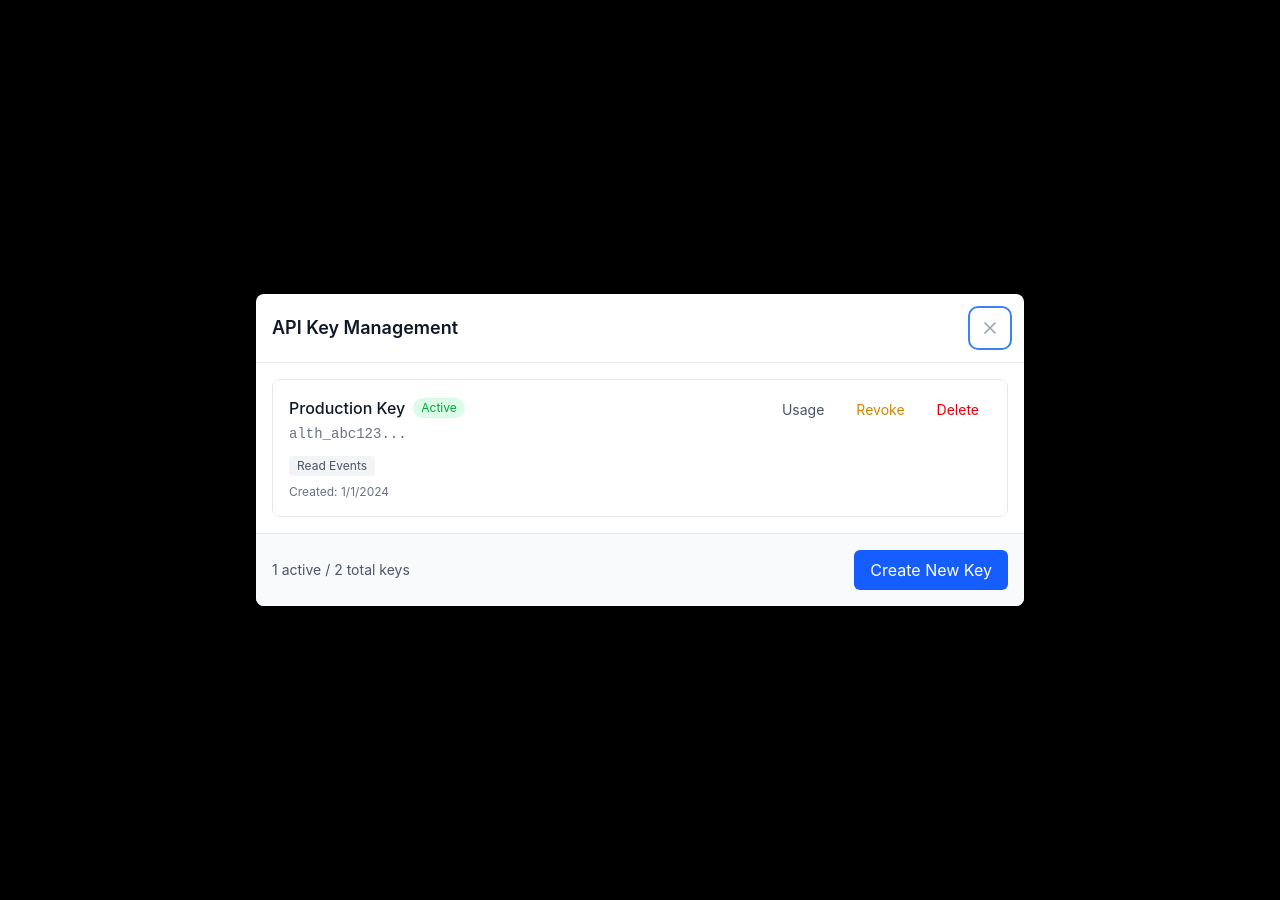
ApiKeyDashboard › copies the new key to the clipboard
Click the button "Create New Key" at (931, 570), box [854, 550, 1008, 590]
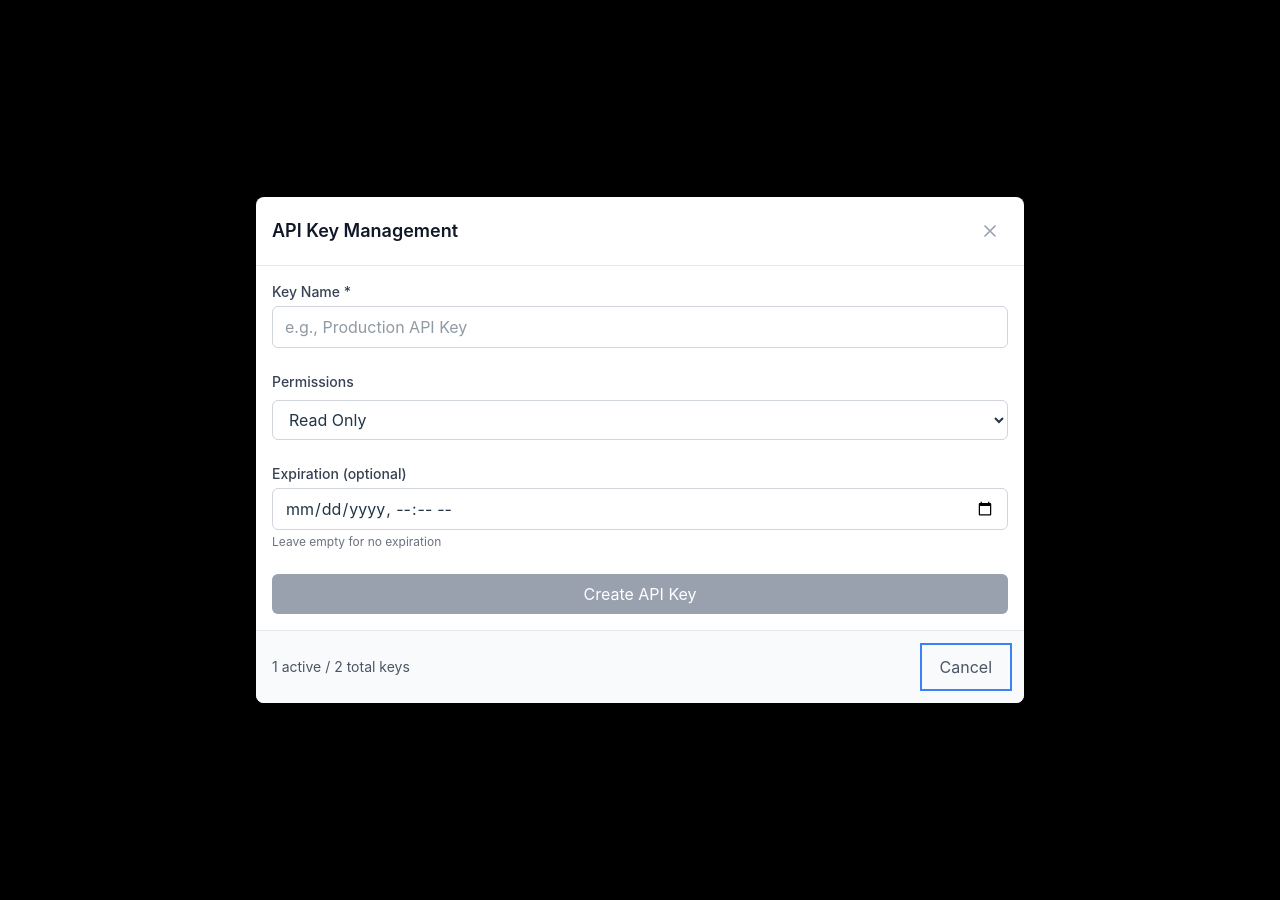
Type "New Key" into the field with placeholder "e.g., Production API Key" at (640, 327), box [272, 306, 1008, 348]
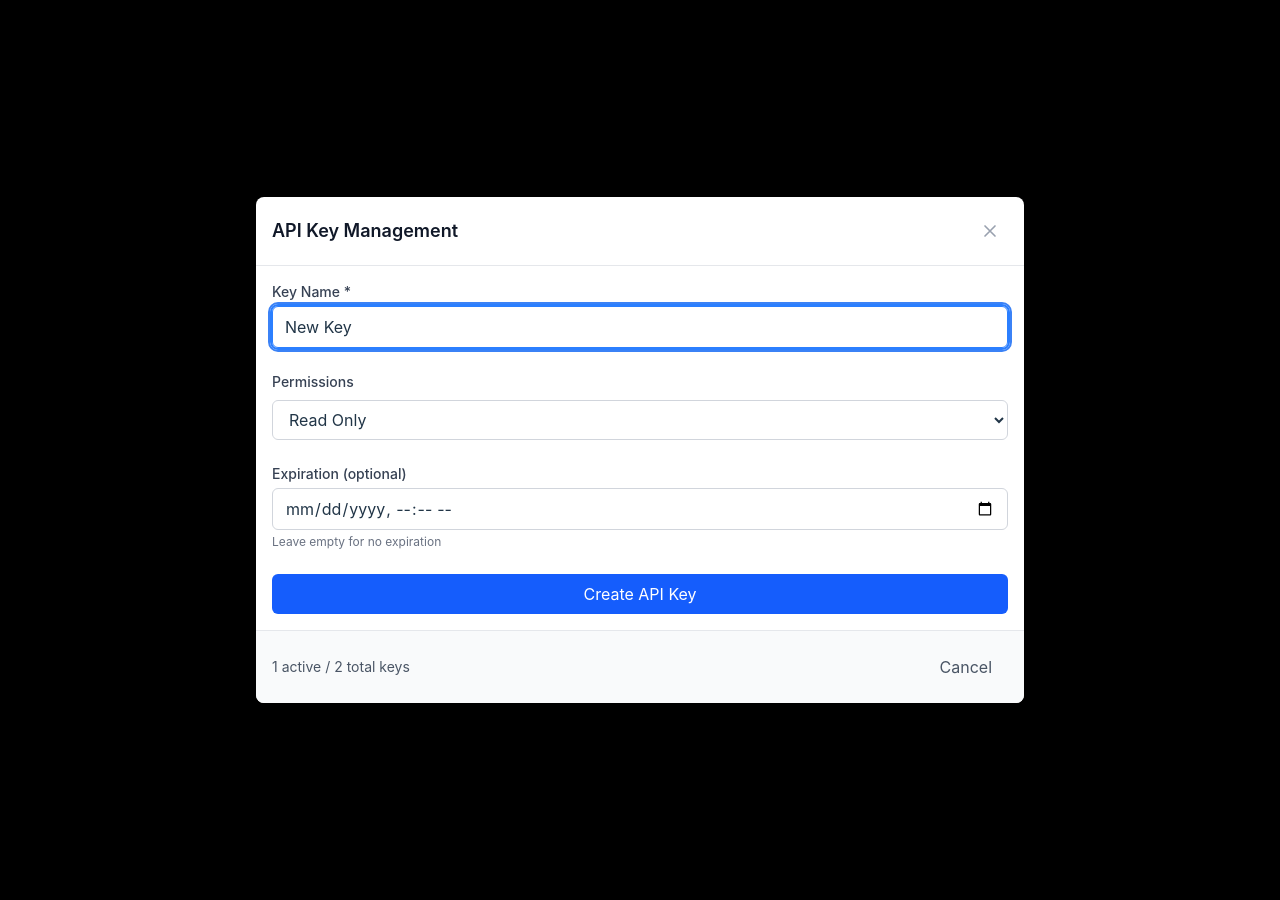
Click the button "Create API Key" at (640, 594), box [272, 574, 1008, 614]
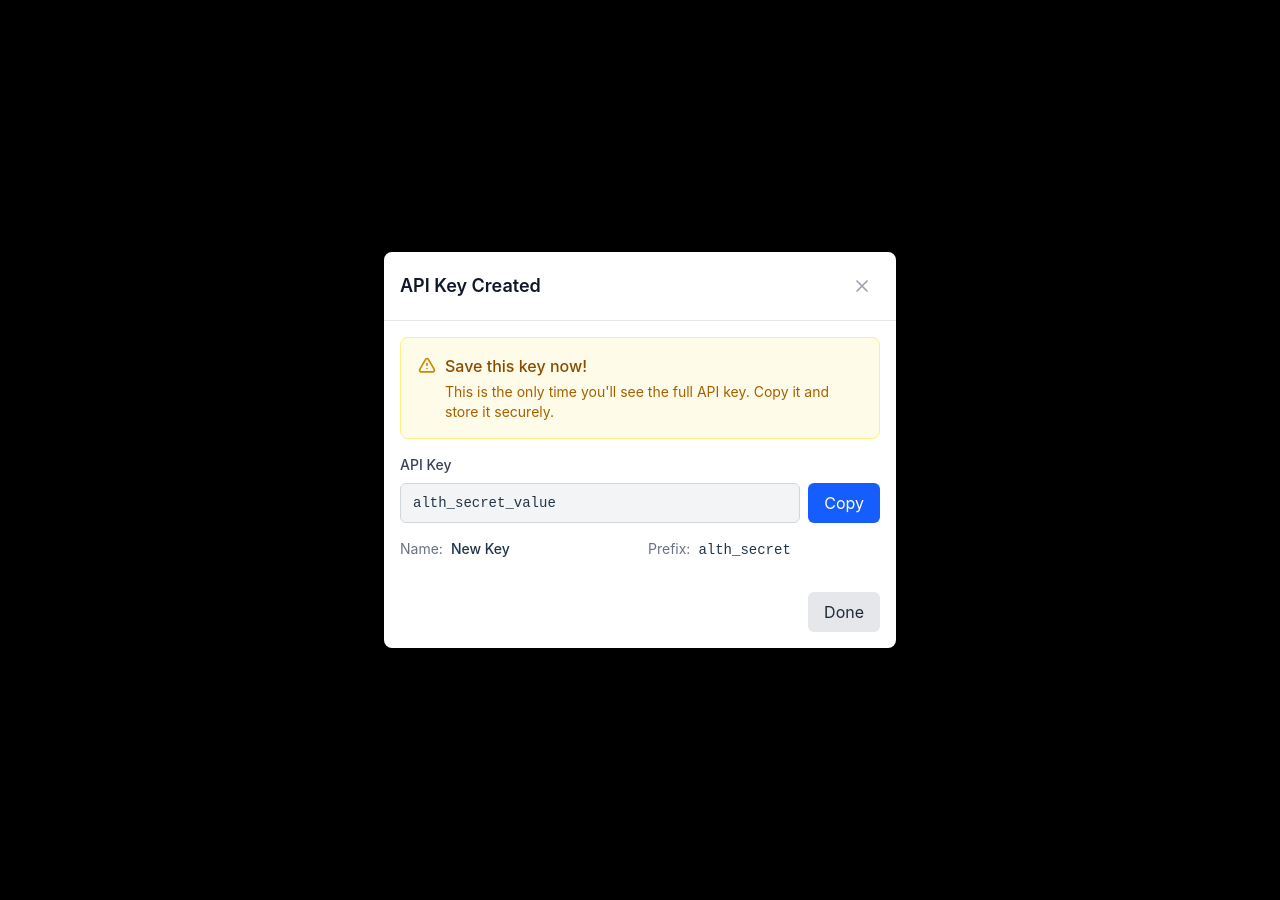
Click the button "Copy" at (844, 503), box [808, 483, 880, 523]
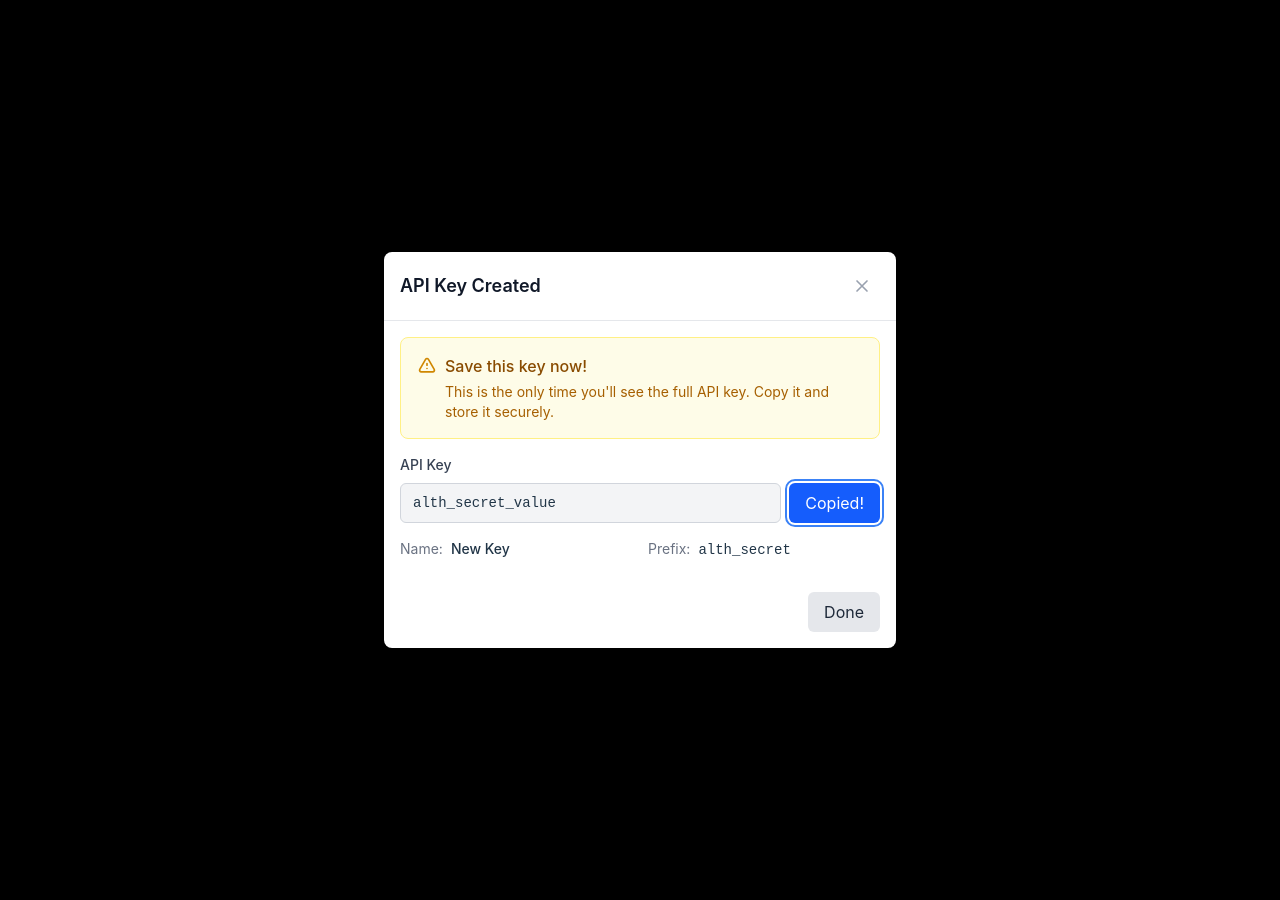
Now the button "Copied!" is shown, box [789, 483, 880, 523]
